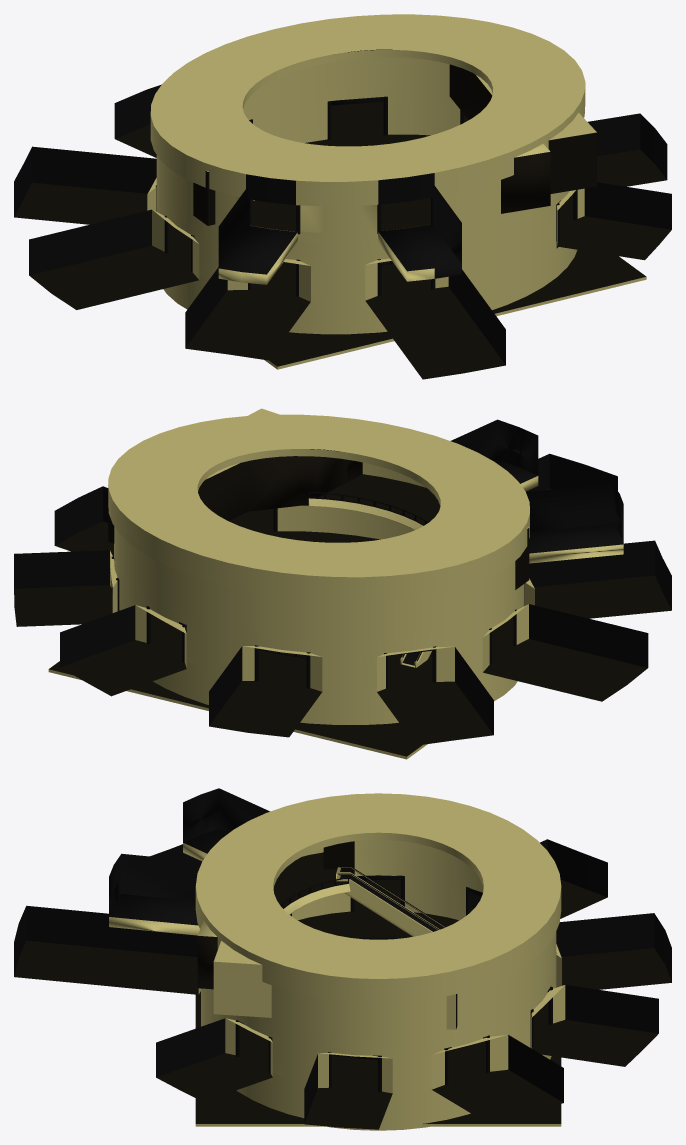
Rendered from Mall.obj.
3 views of the same model, one above another, from view 1: azimuth 30°, elevation 25°; view 2: azimuth 150°, elevation 25°; view 3: azimuth 270°, elevation 25° (orthographic). The views are drawn at different scales.
Parts seen in each view (by area): view 1: BézierCircle.001, Cube.001, Cylinder; view 2: BézierCircle.001, Cube.001; view 3: BézierCircle.001, Cube.001, Cube.003.
Boxes of the visible parts, x1,y1,x2,y2 form: BézierCircle.001: [14, 14, 671, 379]; Cube.001: [264, 249, 646, 369]; Cylinder: [327, 96, 387, 139]; BézierCircle.001: [14, 408, 671, 745]; Cube.001: [48, 651, 427, 759]; BézierCircle.001: [14, 788, 671, 1130]; Cube.001: [195, 991, 561, 1126]; Cube.003: [336, 866, 445, 936].
Size of the model in its own units: 368 by 114 by 366.
